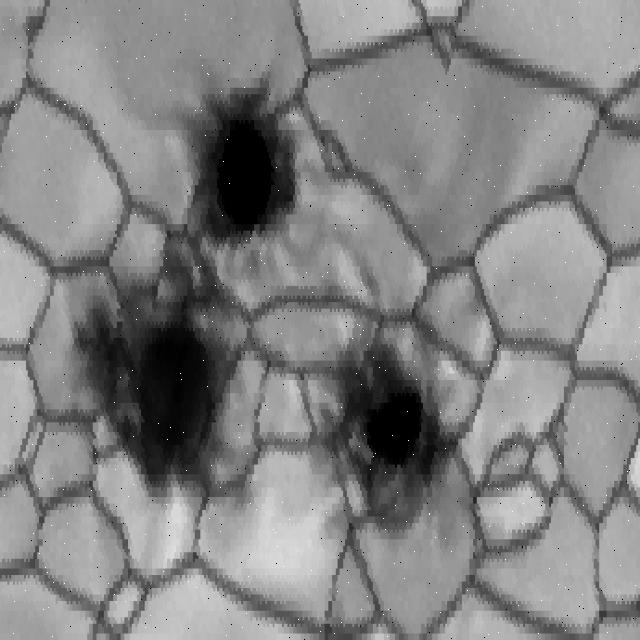good_void: (61, 52, 312, 512), (314, 250, 448, 537)
